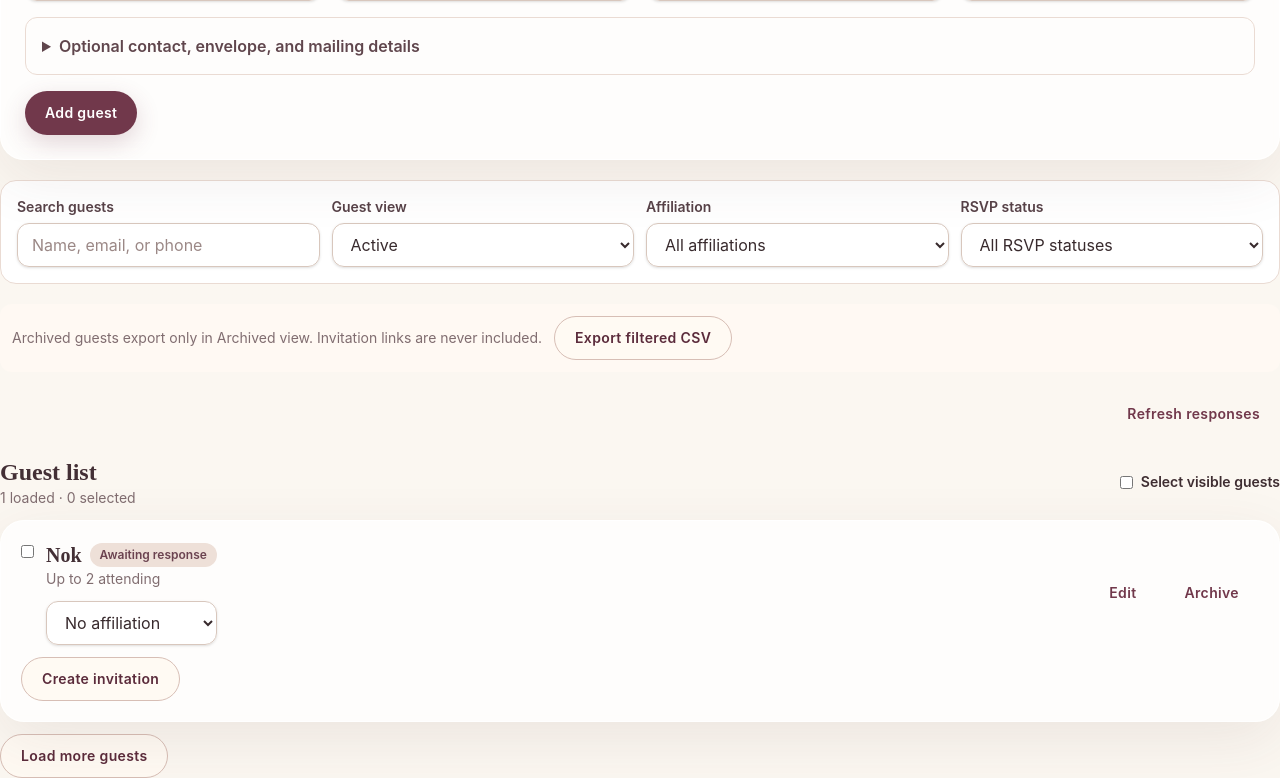
GuestWorkspace › appends a page without duplicate guest IDs
(page scrolled)
Click the button "Load more guests": (84, 756) [0,734,168,777]
(page scrolled)
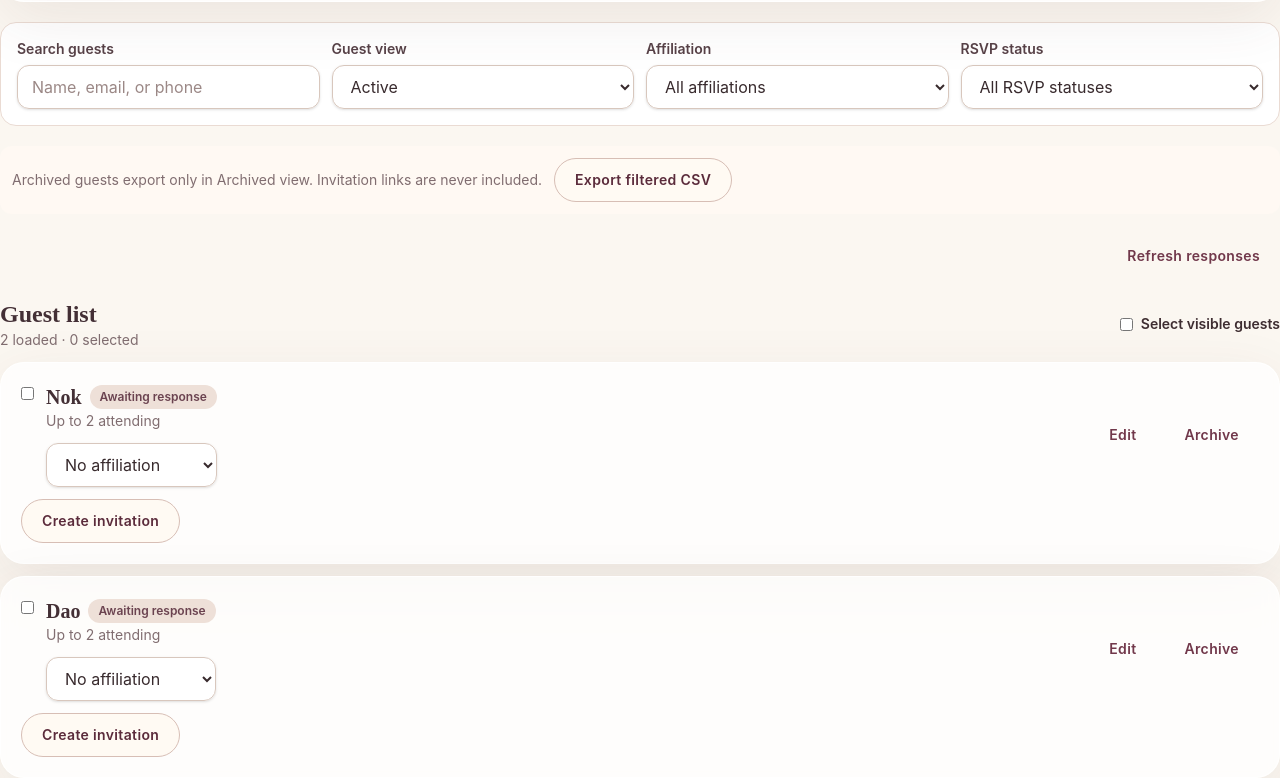
Expected: the text "Dao" is shown, [46,597,80,625]
Expected: the text "Nok" is shown once, [46,383,82,411]
